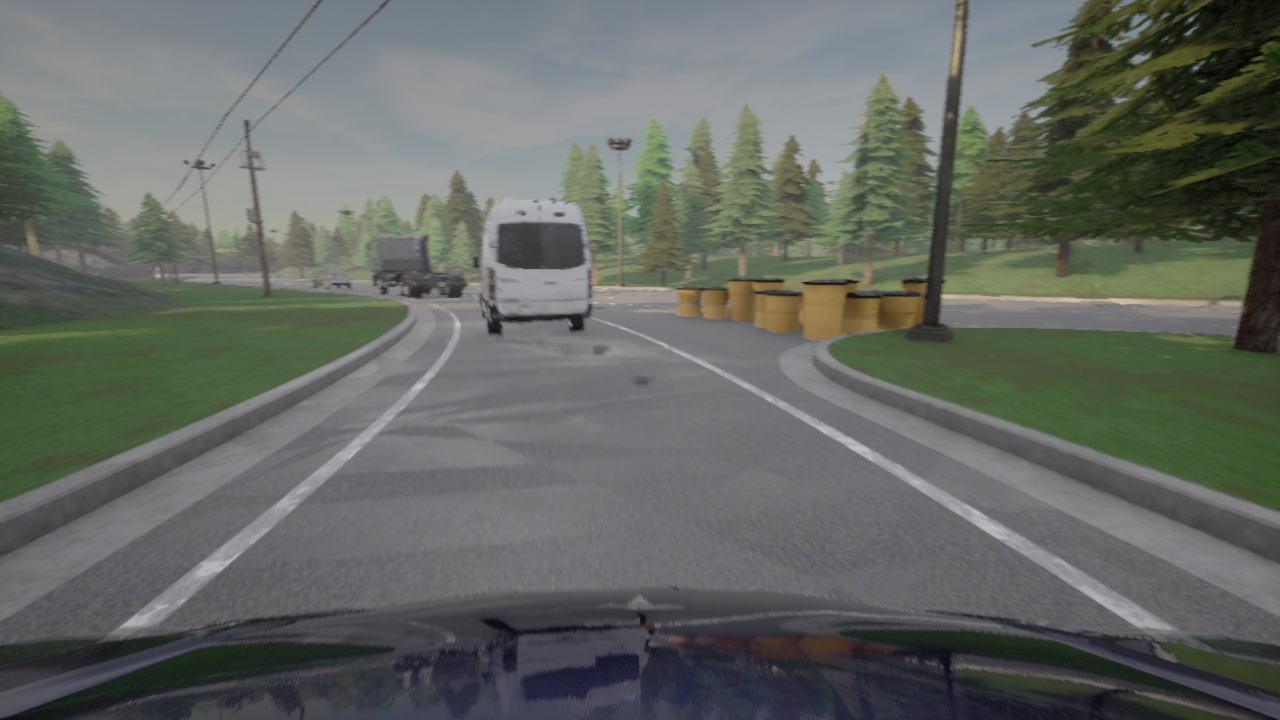cyclist: (0, 588, 1279, 719), (472, 199, 593, 334), (366, 235, 467, 297), (312, 270, 351, 289)
